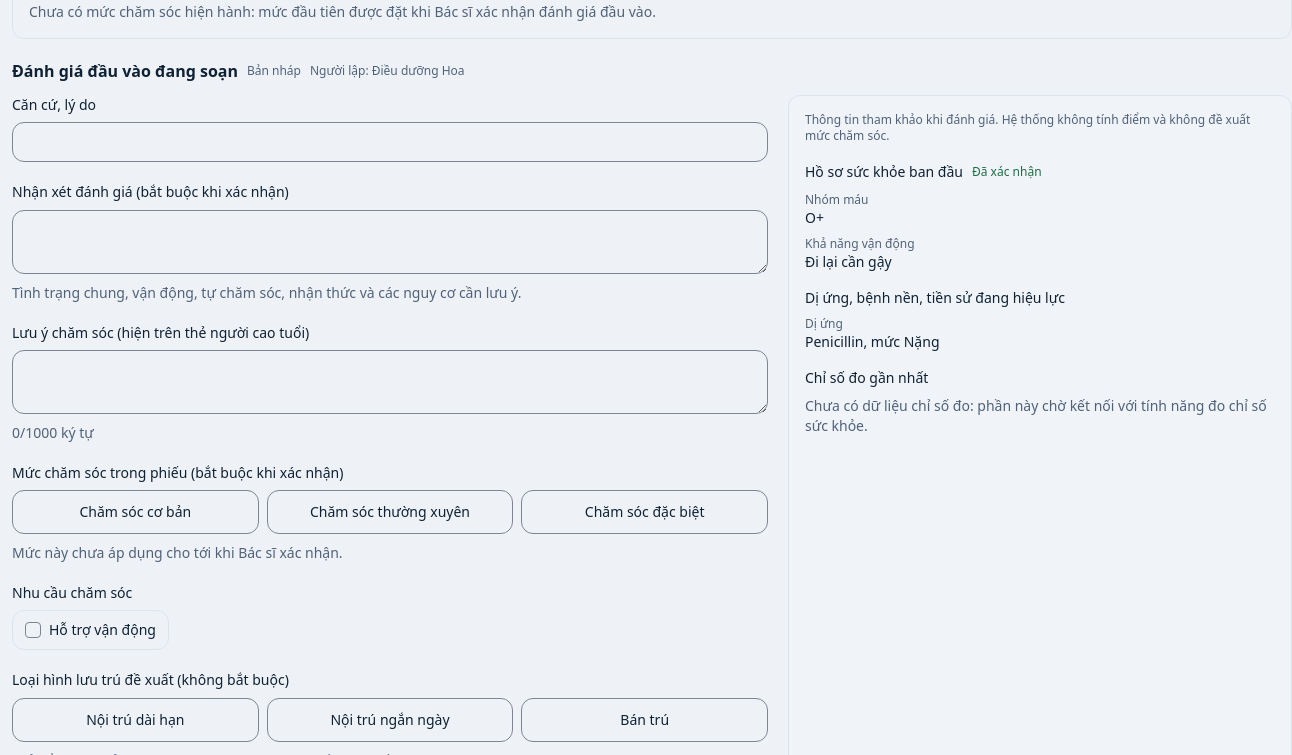
Scenario: AssessmentTab › Điều dưỡng không có nút Xác nhận; Lưu nháp gửi If-Match và các trường đã nhập
The width and height of the screenshot is (1292, 755).
In the text box labelled "Nhận xét đánh giá (bắt buộc khi xác nhận)": (390, 242) [12,210,768,274], type "Tỉnh táo"
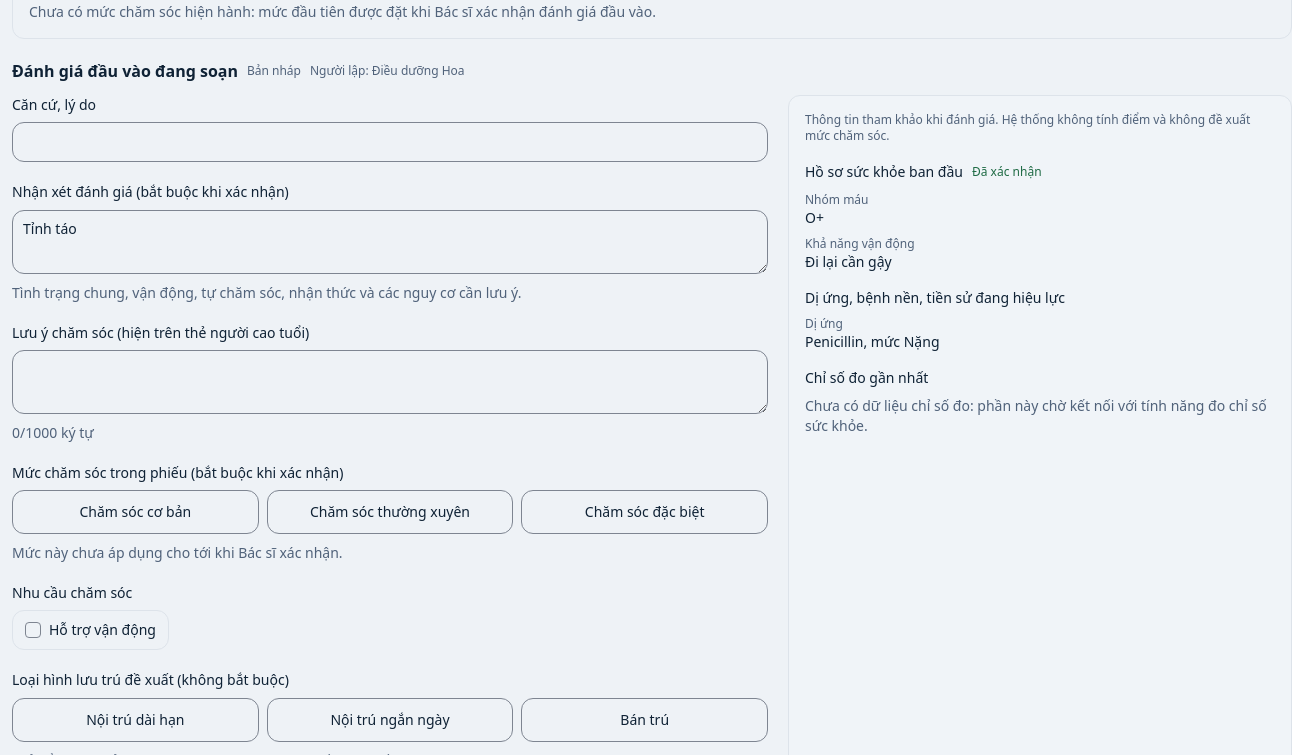
Click the button "Chăm sóc thường xuyên": (390, 512) [267,490,513,534]
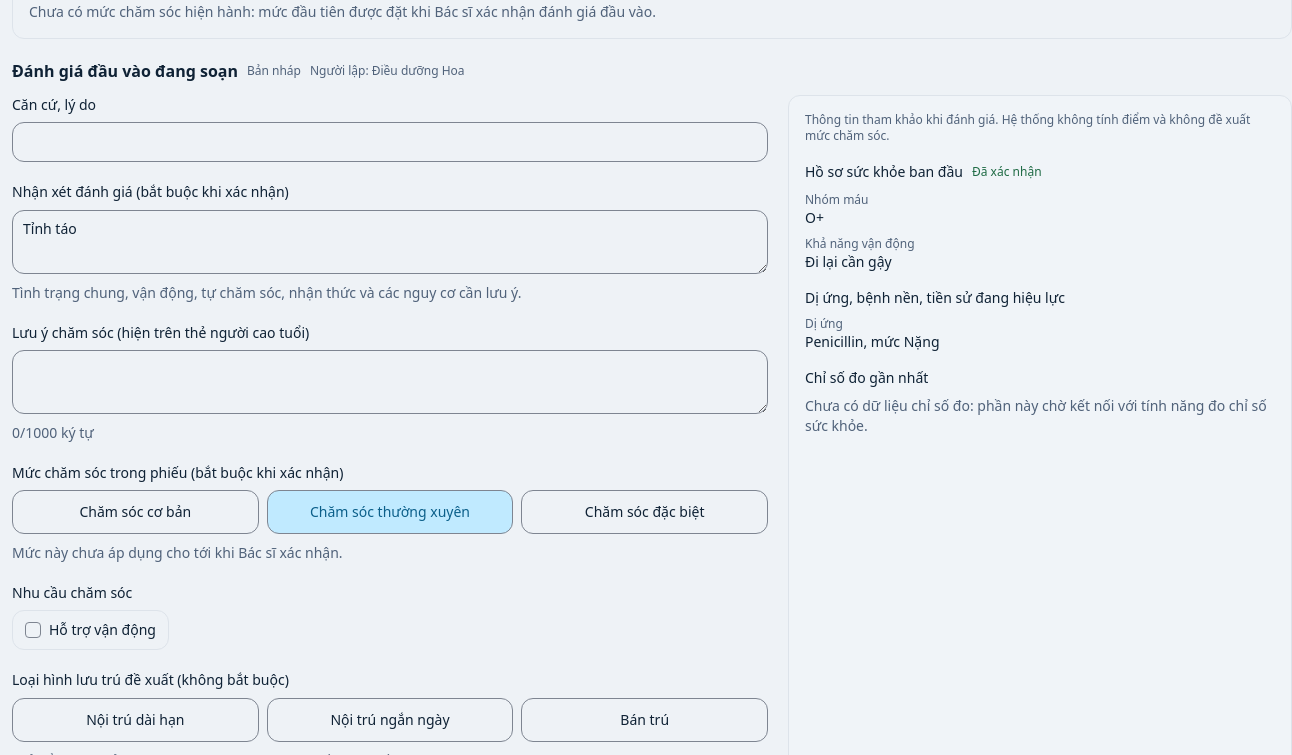
Click the checkbox named "Hỗ trợ vận động": (33, 630) [25,622,41,638]
(page scrolled)
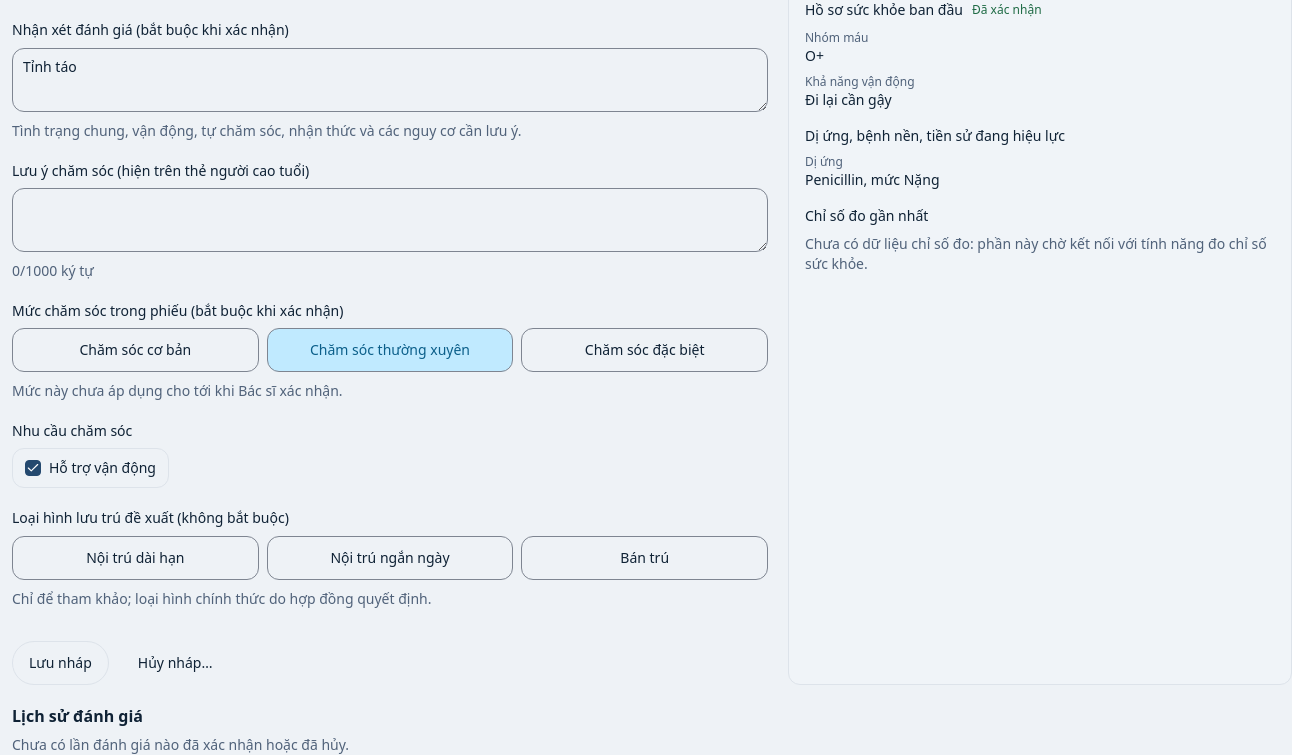
Click the button "Lưu nháp": (60, 662) [12,640,109,684]
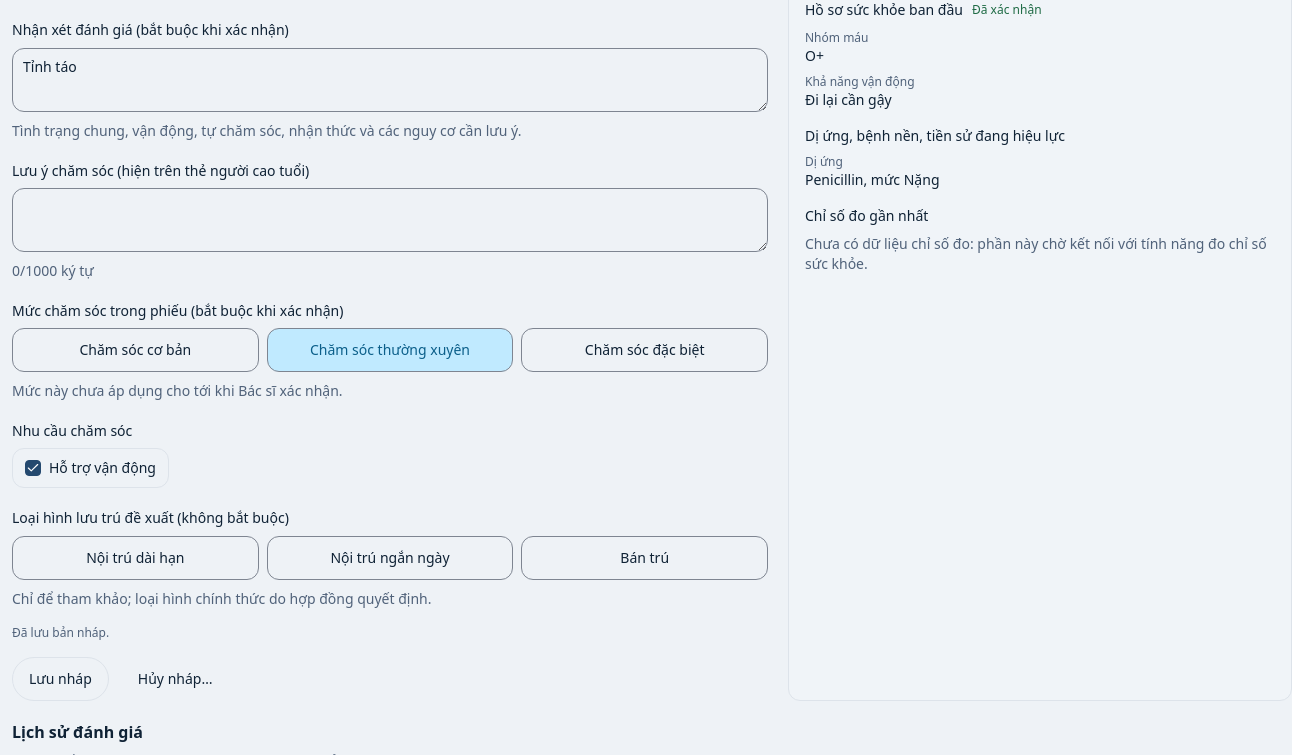
Expected: the text "Đã lưu bản nháp." is shown, [12,624,109,640]
